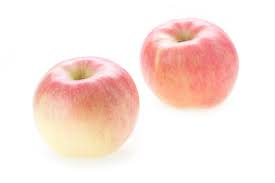apple: (31, 56, 141, 160), (139, 17, 240, 111)
